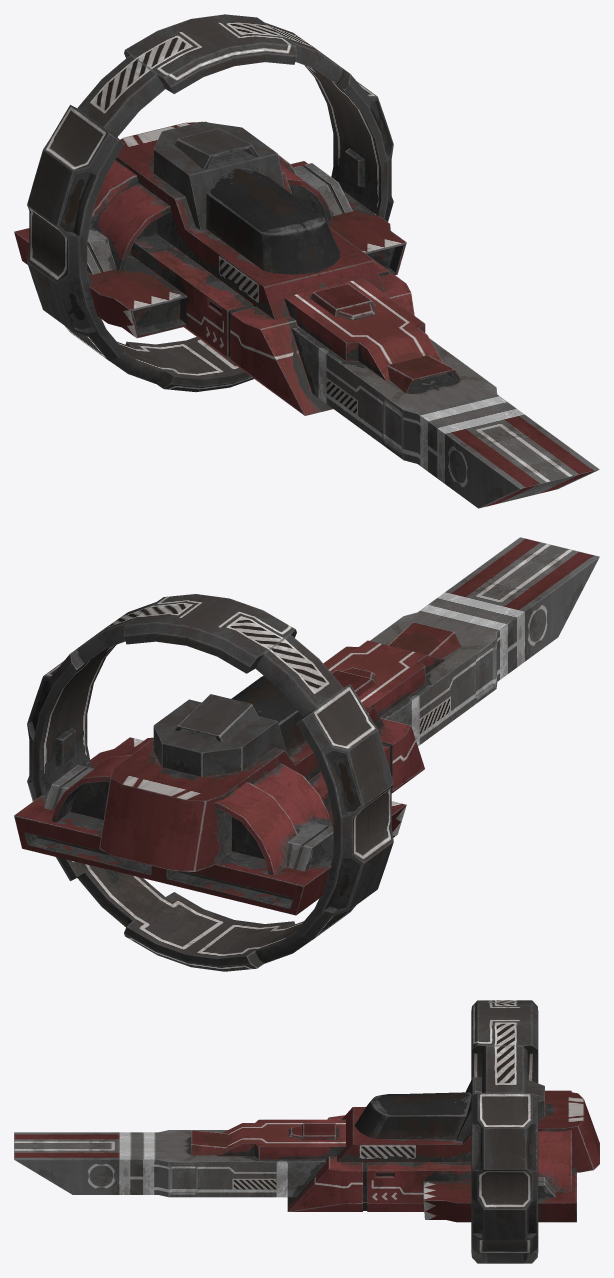
The model's file is zenith_red.glb.
3 views of the same model, one above another, from view 1: azimuth 30°, elevation 25°; view 2: azimuth 150°, elevation 25°; view 3: azimuth 270°, elevation 25° (orthographic). The views are drawn at different scales.
Parts seen in each view (by area): view 1: zenith; view 2: zenith; view 3: zenith.
Boxes of the visible parts, x1,y1,x2,y2 form: zenith: [14, 14, 599, 508]; zenith: [14, 537, 599, 971]; zenith: [14, 1000, 599, 1263].
Bounding box in the file's own units: 5.63 × 5.43 × 12.07.
Materials: 1 (1 with a texture image).
